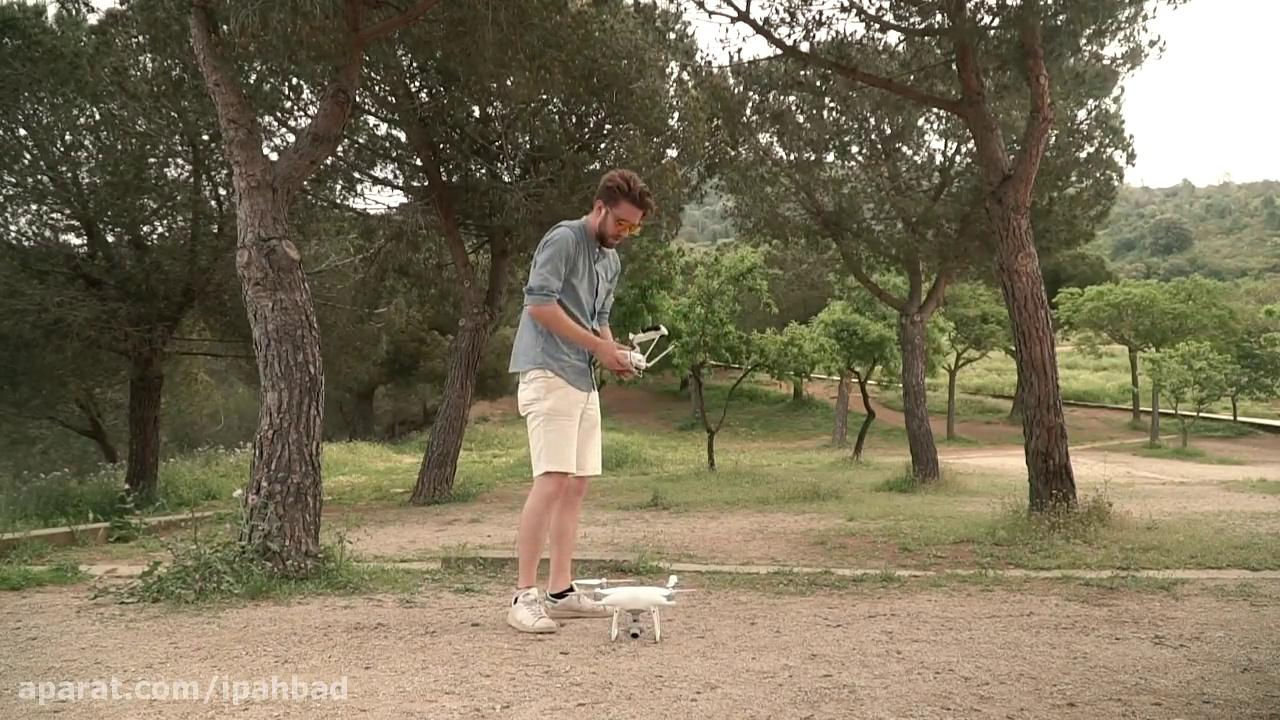drone: (573, 570, 698, 644)
